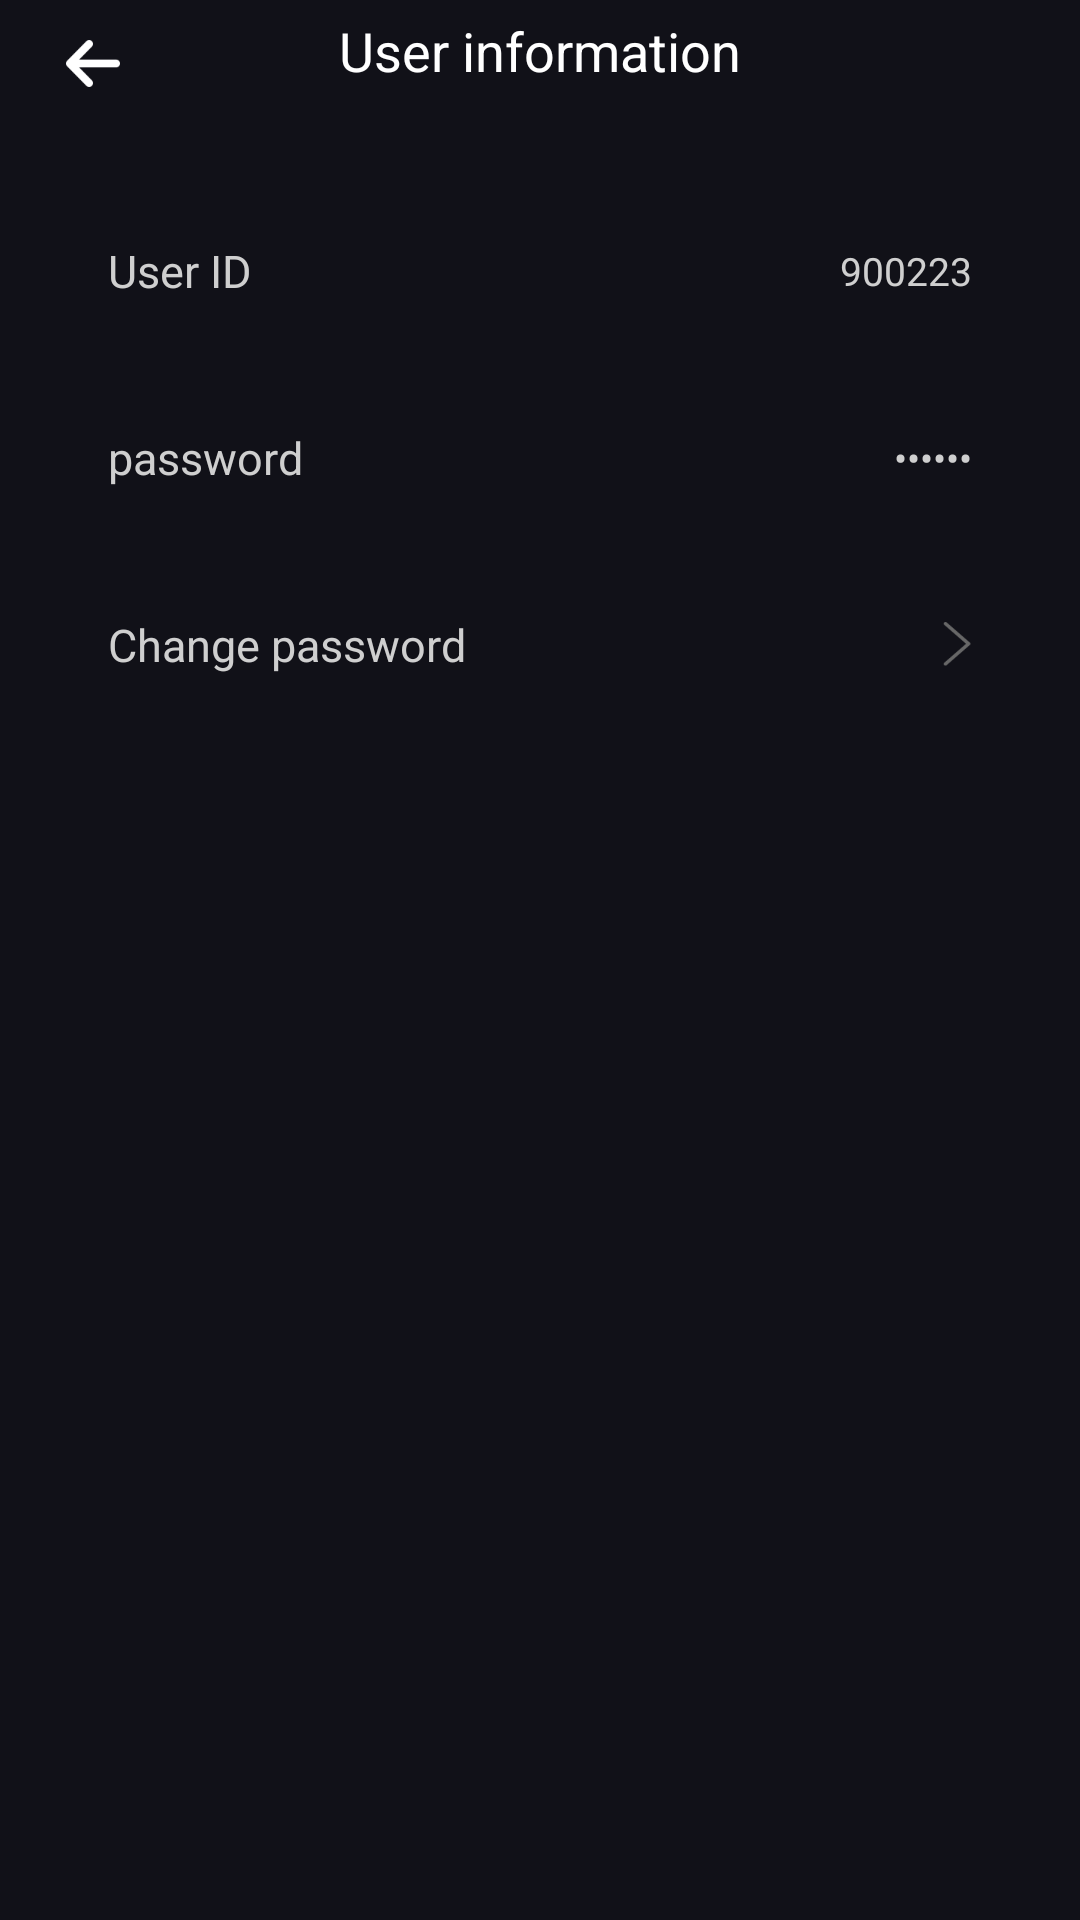

Where icons sit on this 1080×1920 app screen, as bbox=[x1, y1, x2, y2]:
back up: bbox=[66, 40, 120, 87]
